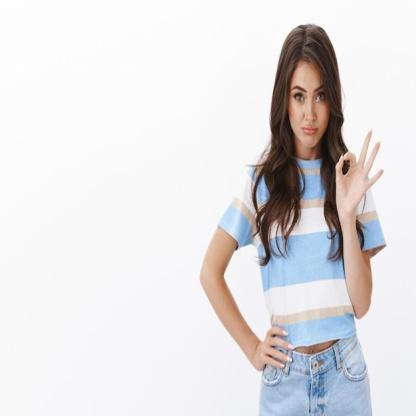ok: (333, 127, 384, 218)
